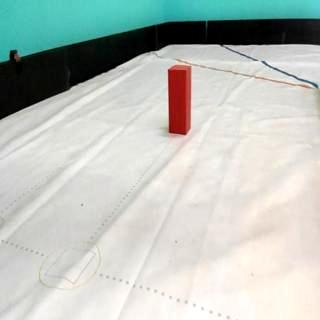redbox: (168, 64, 192, 134)
